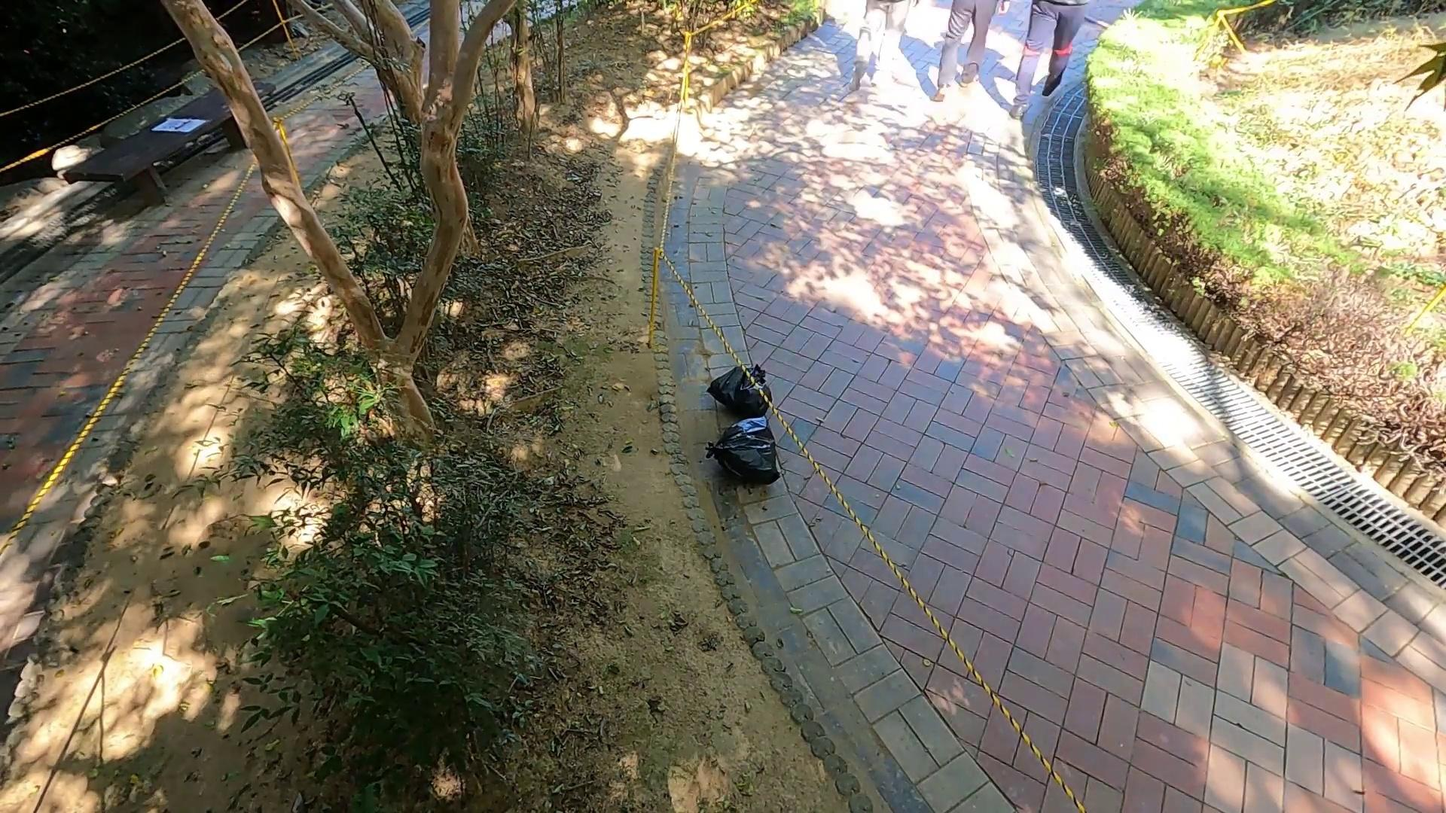trash: (695, 409, 783, 491), (699, 355, 781, 416)
